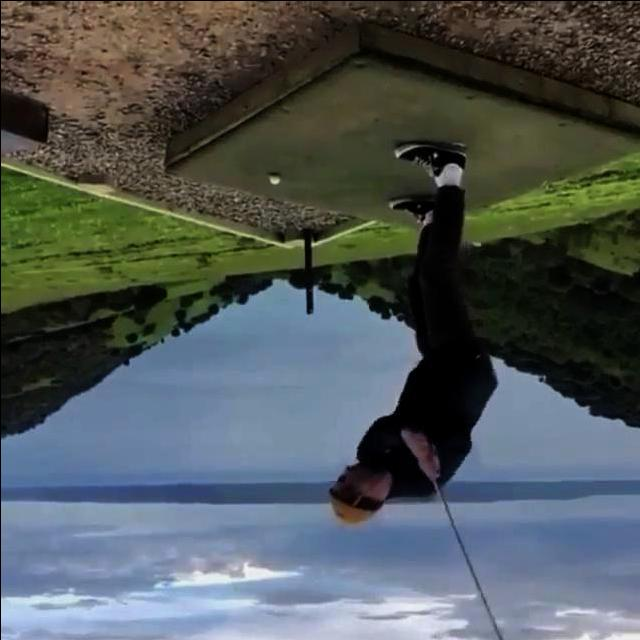ClubHandle: (437, 486, 503, 640)
GolfBall: (268, 172, 281, 183)
